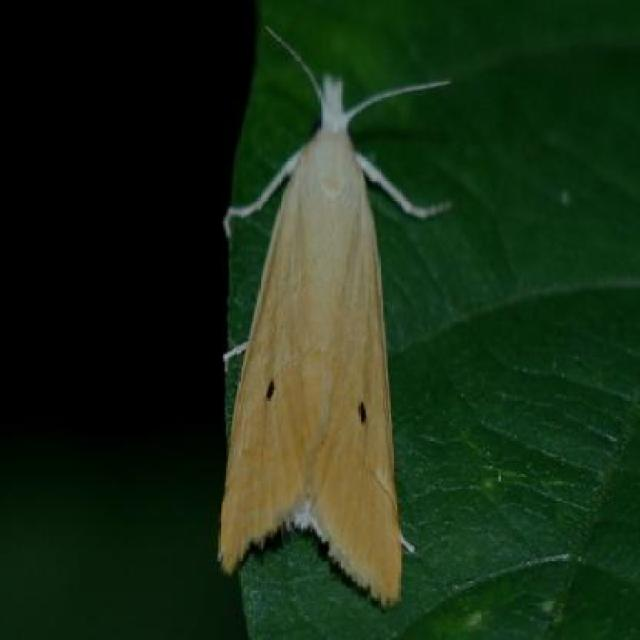stem-borer: (212, 18, 456, 610)
